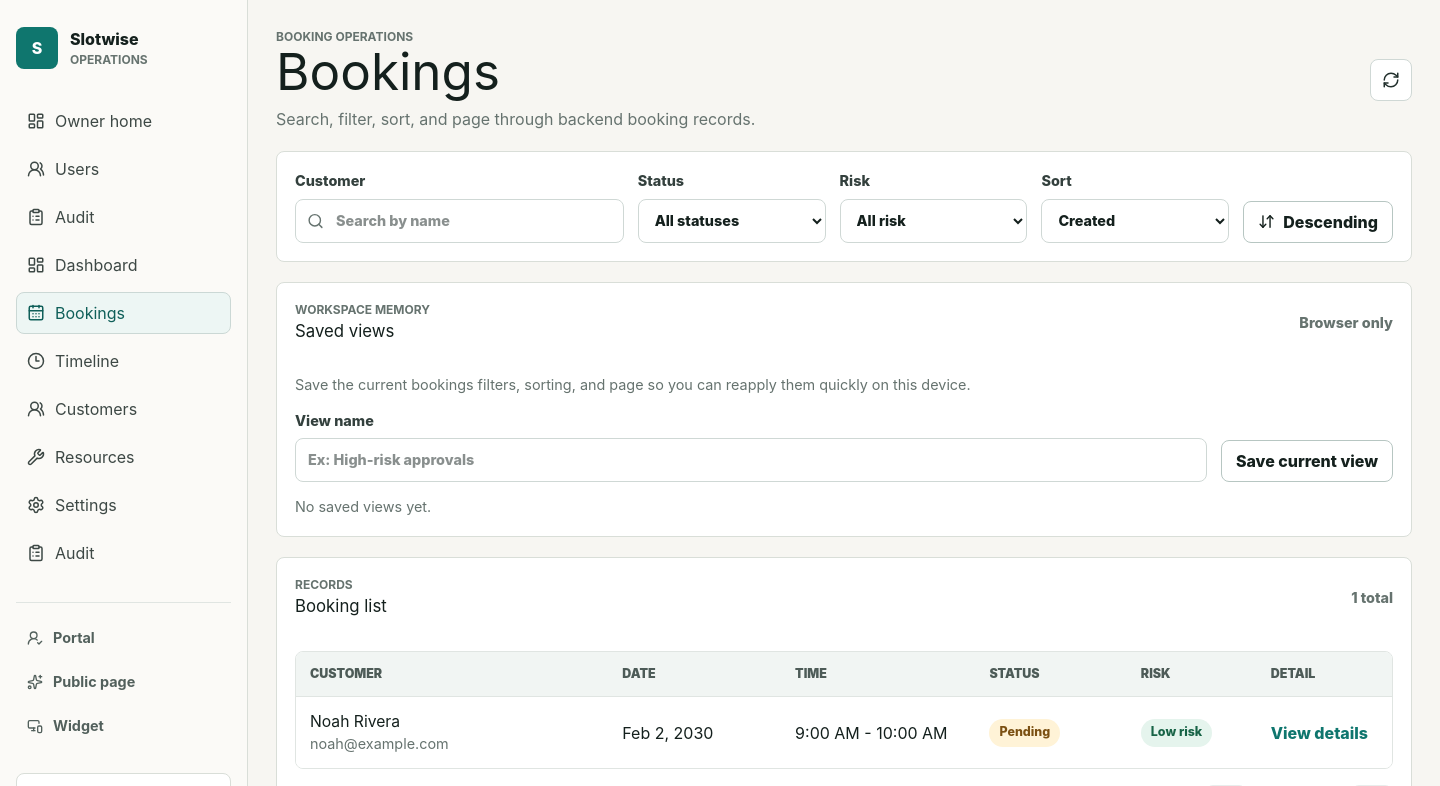
confirms and applies booking lifecycle actions from detail
Click the button "View details". click: {"x": 1319, "y": 732}
box: [1271,716,1368,750]
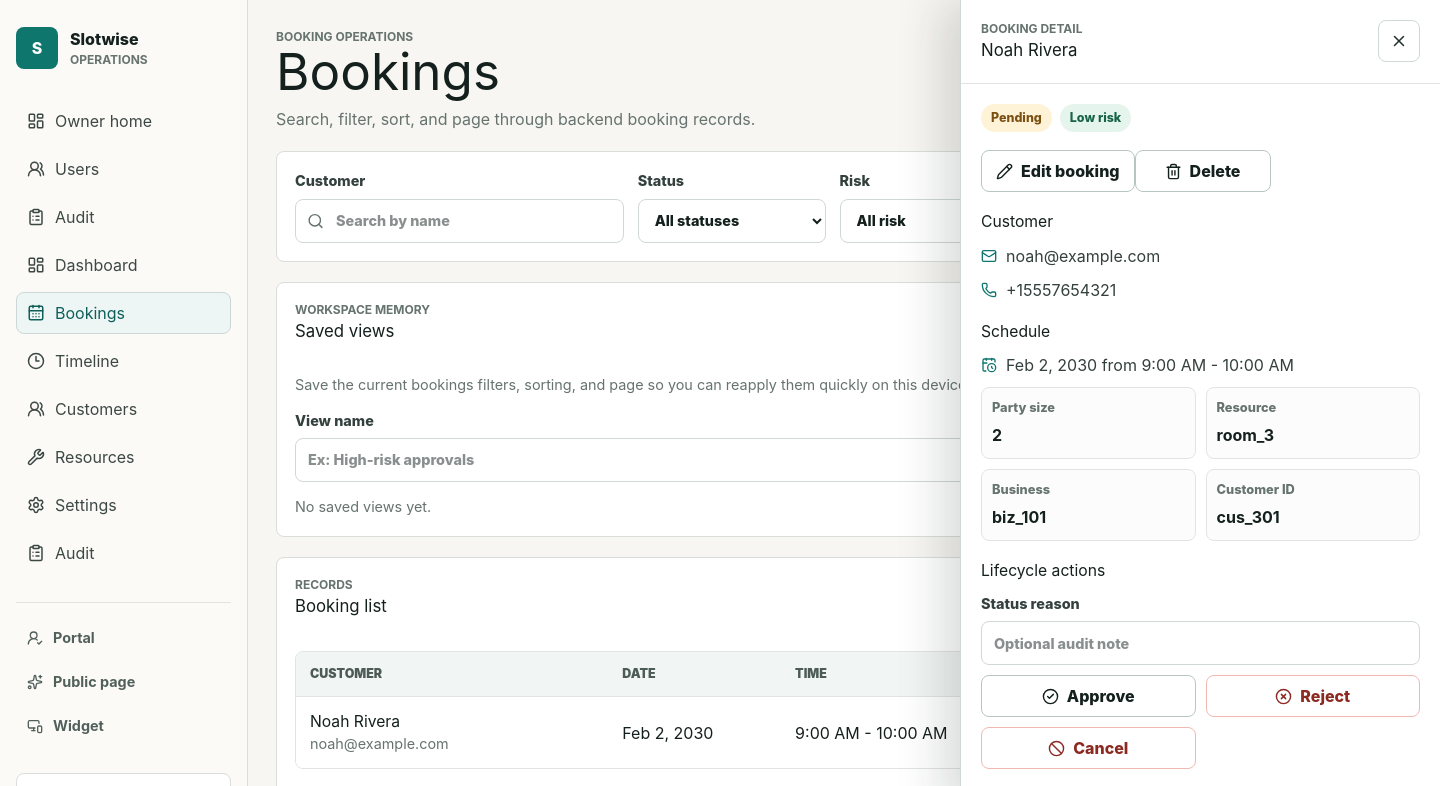
Click the button "Approve". click: {"x": 1088, "y": 696}
box: [981,675,1196,717]
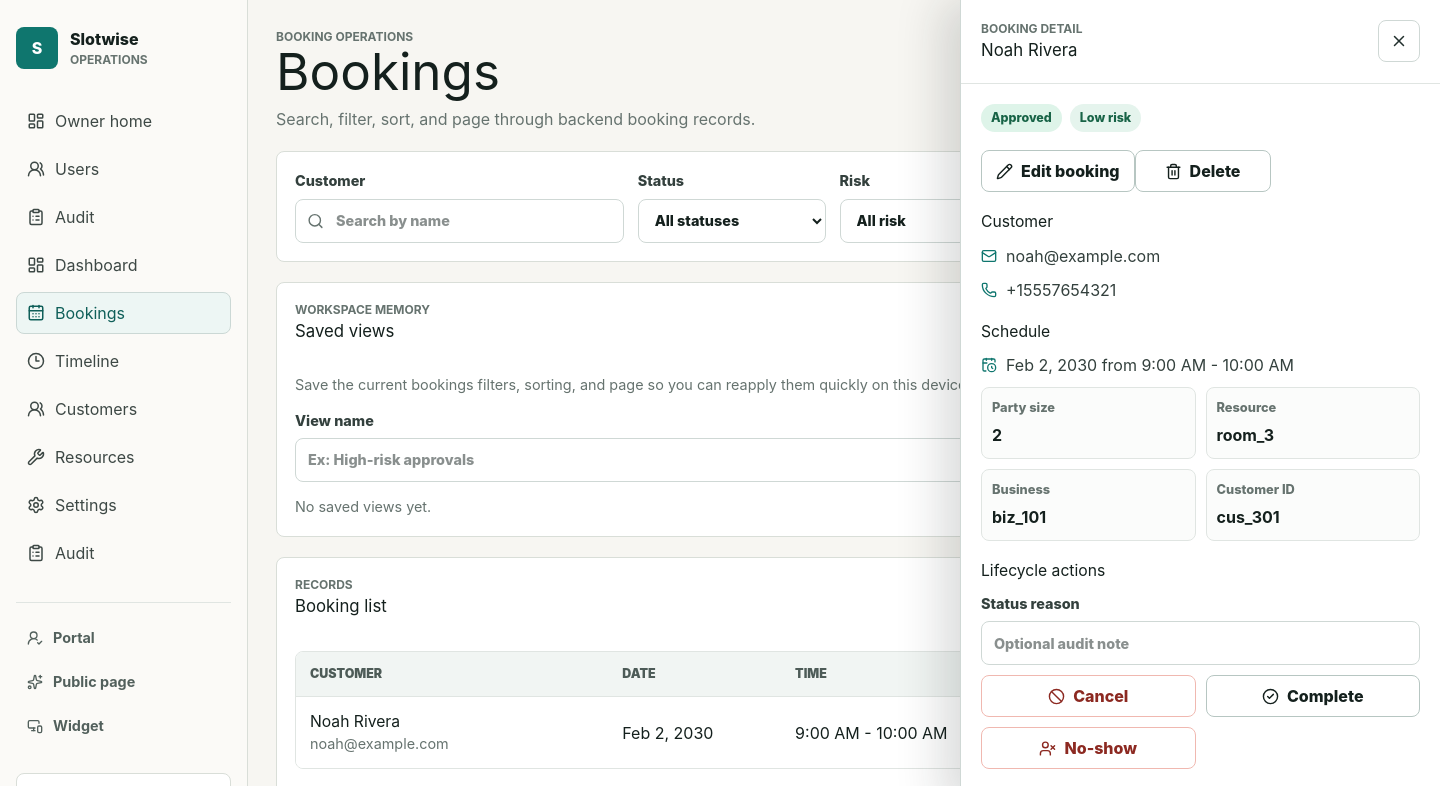
Expected: the button "No-show" is shown, [981,727,1196,769]
